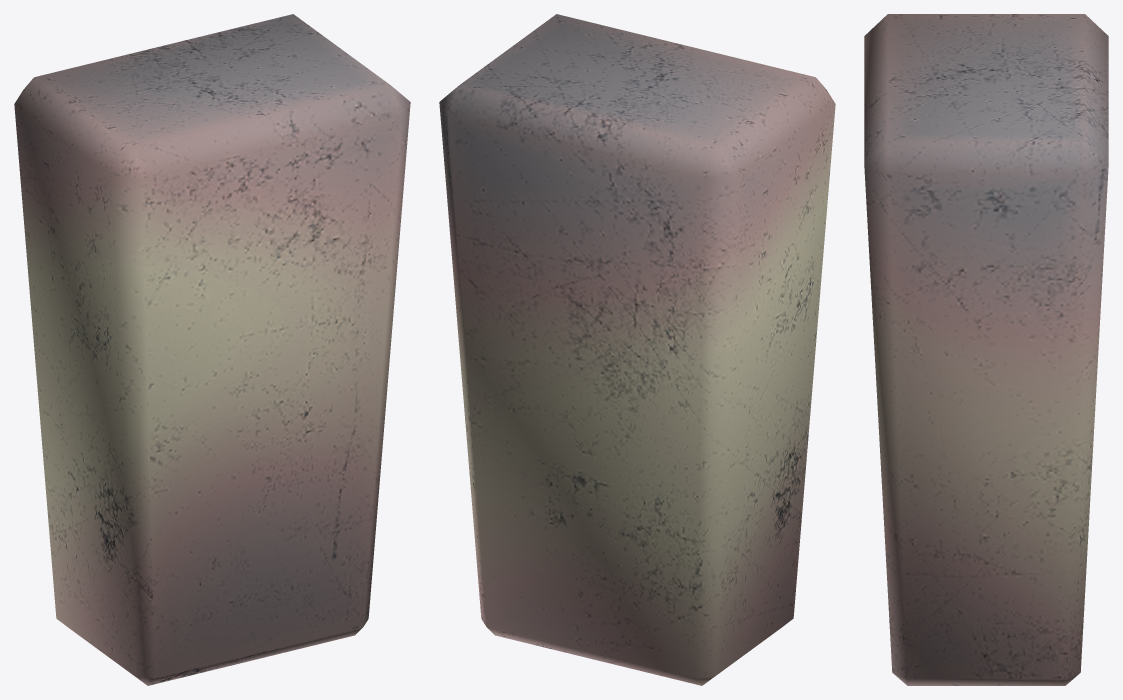
Rendered from SM_RefinedMineral_3.fbx.
3 views of the same model, side by side, from view 1: azimuth 30°, elevation 25°; view 2: azimuth 150°, elevation 25°; view 3: azimuth 270°, elevation 25° (orthographic).
Parts seen in each view (by area): view 1: SM_RefinedMineral_3; view 2: SM_RefinedMineral_3; view 3: SM_RefinedMineral_3.
Boxes of the visible parts, <box> form: SM_RefinedMineral_3: <box>14,14,410,685</box>; SM_RefinedMineral_3: <box>439,14,835,685</box>; SM_RefinedMineral_3: <box>864,14,1108,685</box>.
Bounding box in the file's own units: 0.2403 × 0.1682 × 0.4225.
